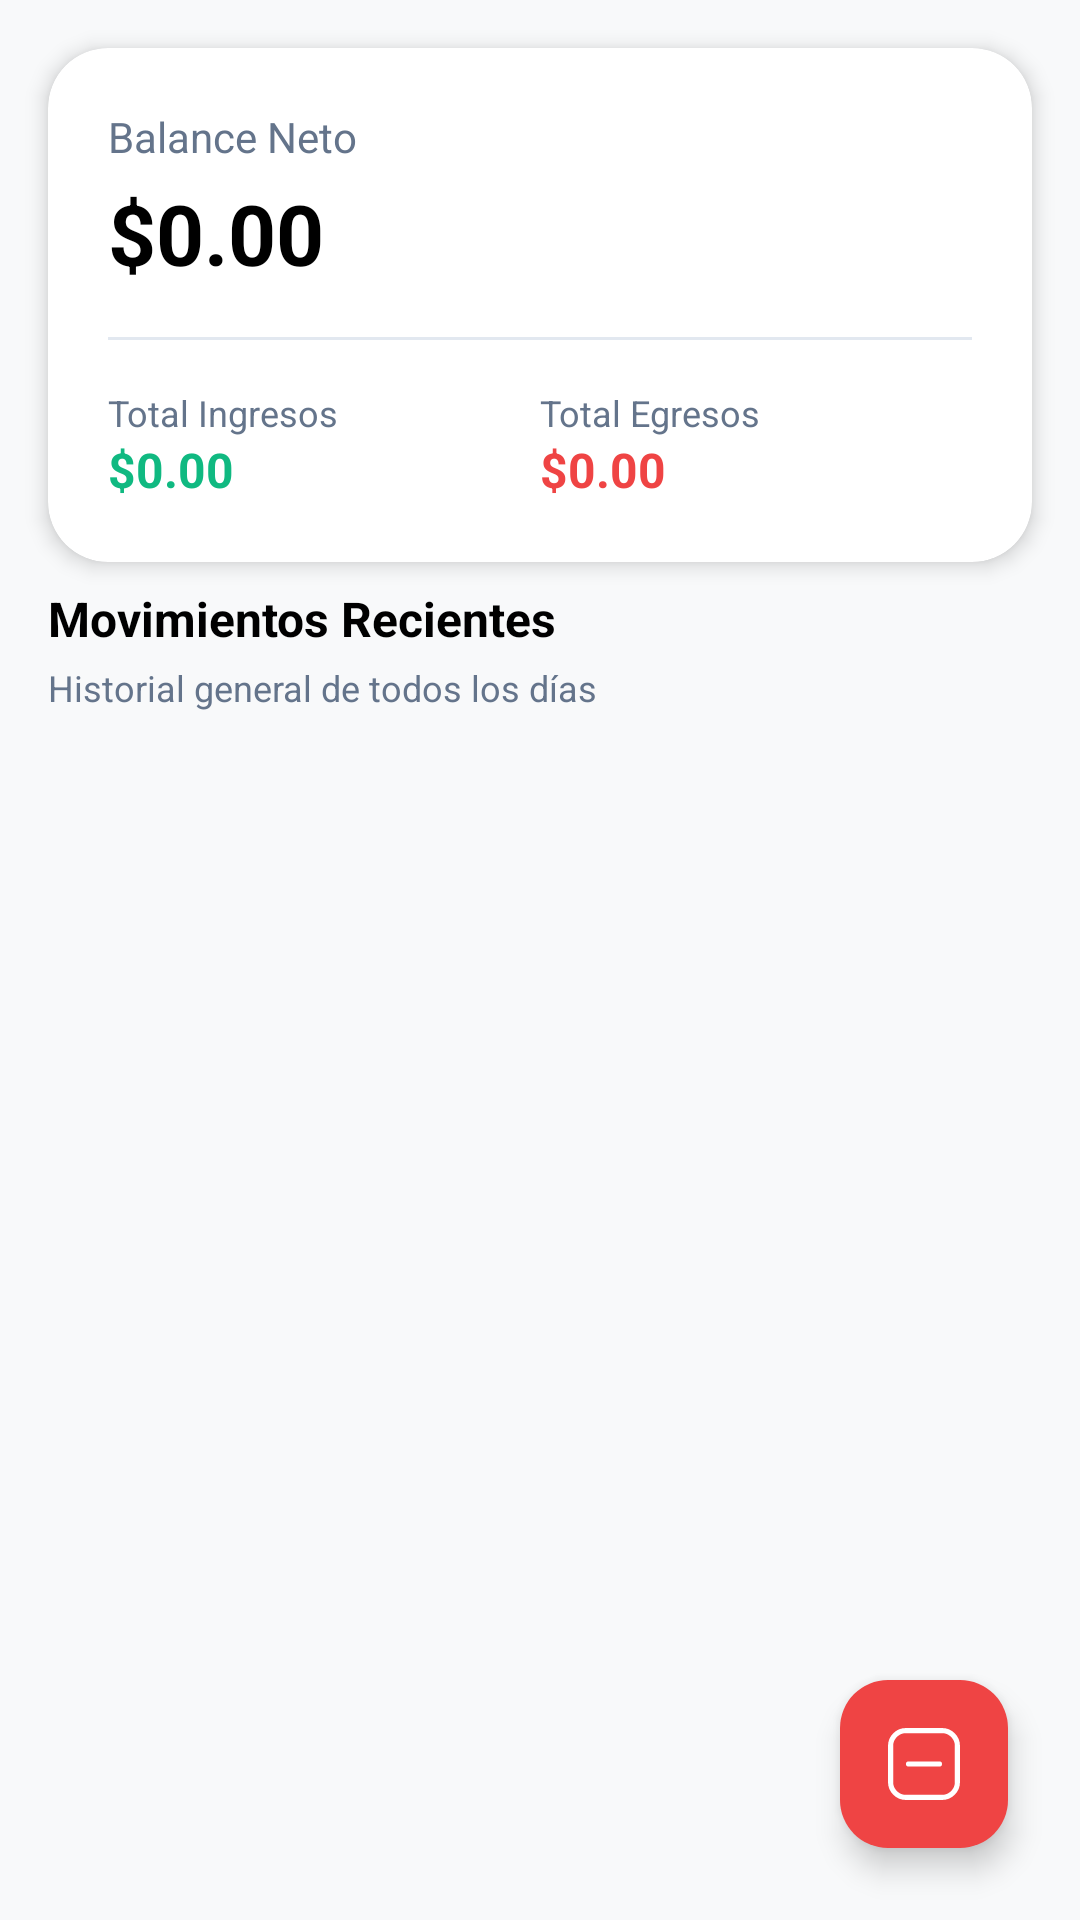

Where icons sit on this 1080 x 1920 app screen, as (x1, y1, x2, y2):
Registrar gasto: (840, 1680, 1008, 1848)
